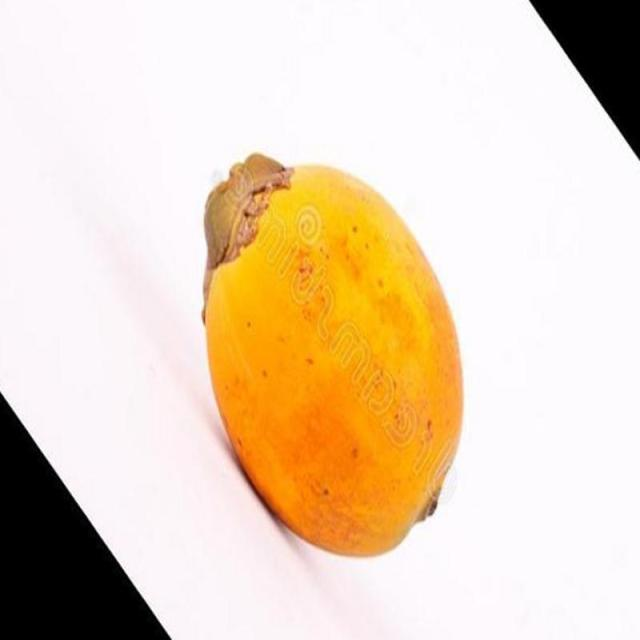good: (201, 154, 466, 562)
